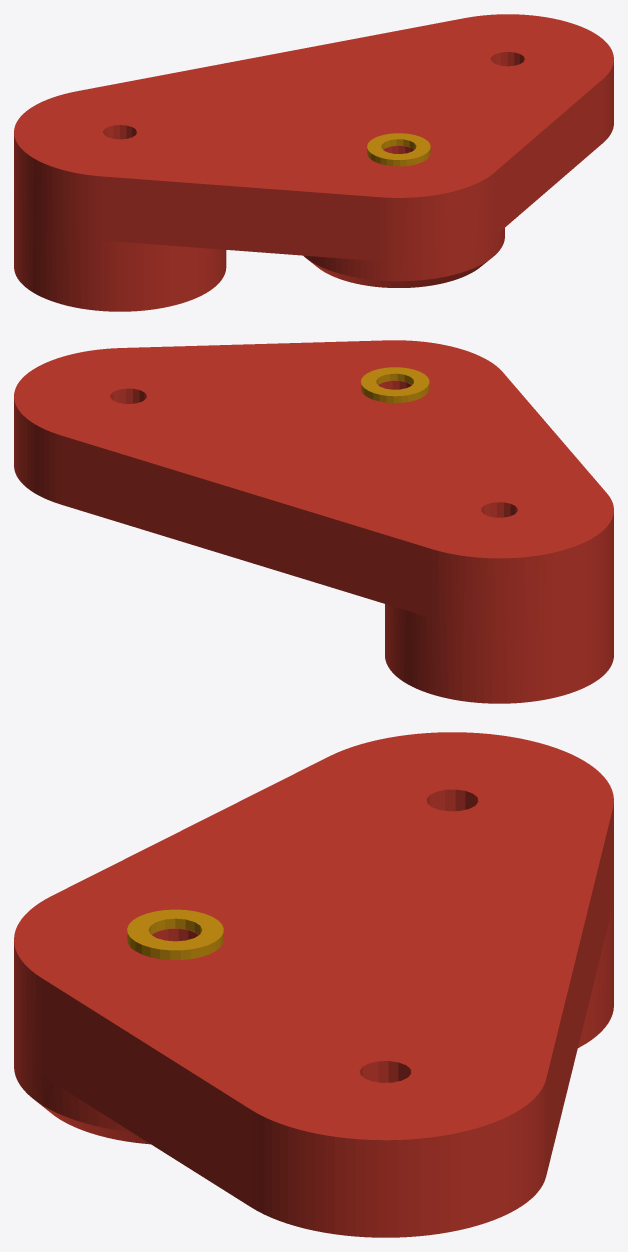
The model's file is elbow.dae.
3 views of the same model, one above another, from view 1: azimuth 30°, elevation 25°; view 2: azimuth 150°, elevation 25°; view 3: azimuth 270°, elevation 25° (orthographic). The views are drawn at different scales.
Parts seen in each view (by area): view 1: node3, node2; view 2: node3, node2; view 3: node3, node2.
Boxes of the visible parts, x1=… form: node3: x1=14, y1=14, x2=613, y2=311; node2: x1=367, y1=133, x2=430, y2=166; node3: x1=14, y1=340, x2=613, y2=703; node2: x1=361, y1=367, x2=429, y2=402; node3: x1=14, y1=732, x2=613, y2=1237; node2: x1=127, y1=909, x2=223, y2=959.
Bounding box in the file's own units: 0.0897 × 0.0557 × 0.023.
